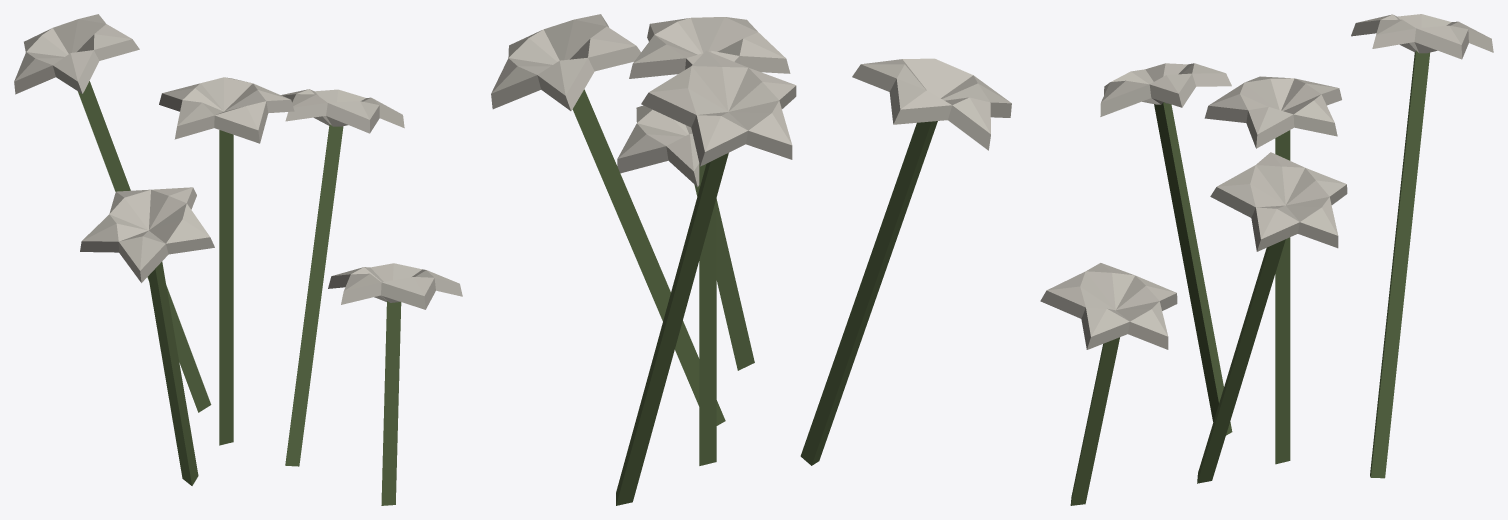
The model's file is SM_Envr_Nature_Plant_Flower_Group_05.fbx.
The picture shows the model from 3 angles, left to right: view 1: azimuth 30°, elevation 25°; view 2: azimuth 150°, elevation 25°; view 3: azimuth 270°, elevation 25°; orthographic projection. The views are drawn at different scales.
Parts seen in each view (by area): view 1: SM_Envr_Nature_Plant_Flower_Group_05; view 2: SM_Envr_Nature_Plant_Flower_Group_05; view 3: SM_Envr_Nature_Plant_Flower_Group_05.
Part boxes in pixels (x1,y1,x2,y2): SM_Envr_Nature_Plant_Flower_Group_05: [14, 14, 462, 505]; SM_Envr_Nature_Plant_Flower_Group_05: [491, 14, 1011, 505]; SM_Envr_Nature_Plant_Flower_Group_05: [1040, 14, 1493, 505].
Size of the model in its own units: 62.62 by 65.74 by 65.16.
